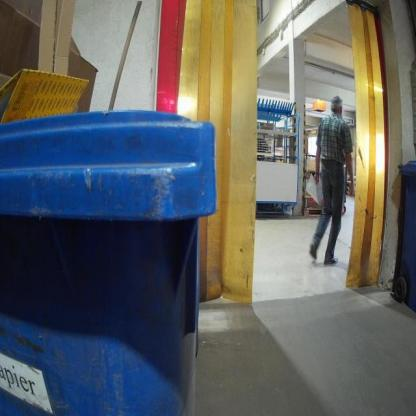pallet: (301, 207, 322, 216)
